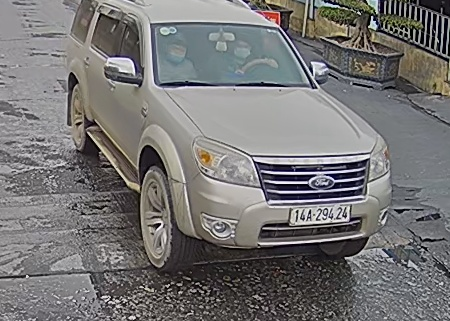vehicle plate: (288, 203, 351, 225)
